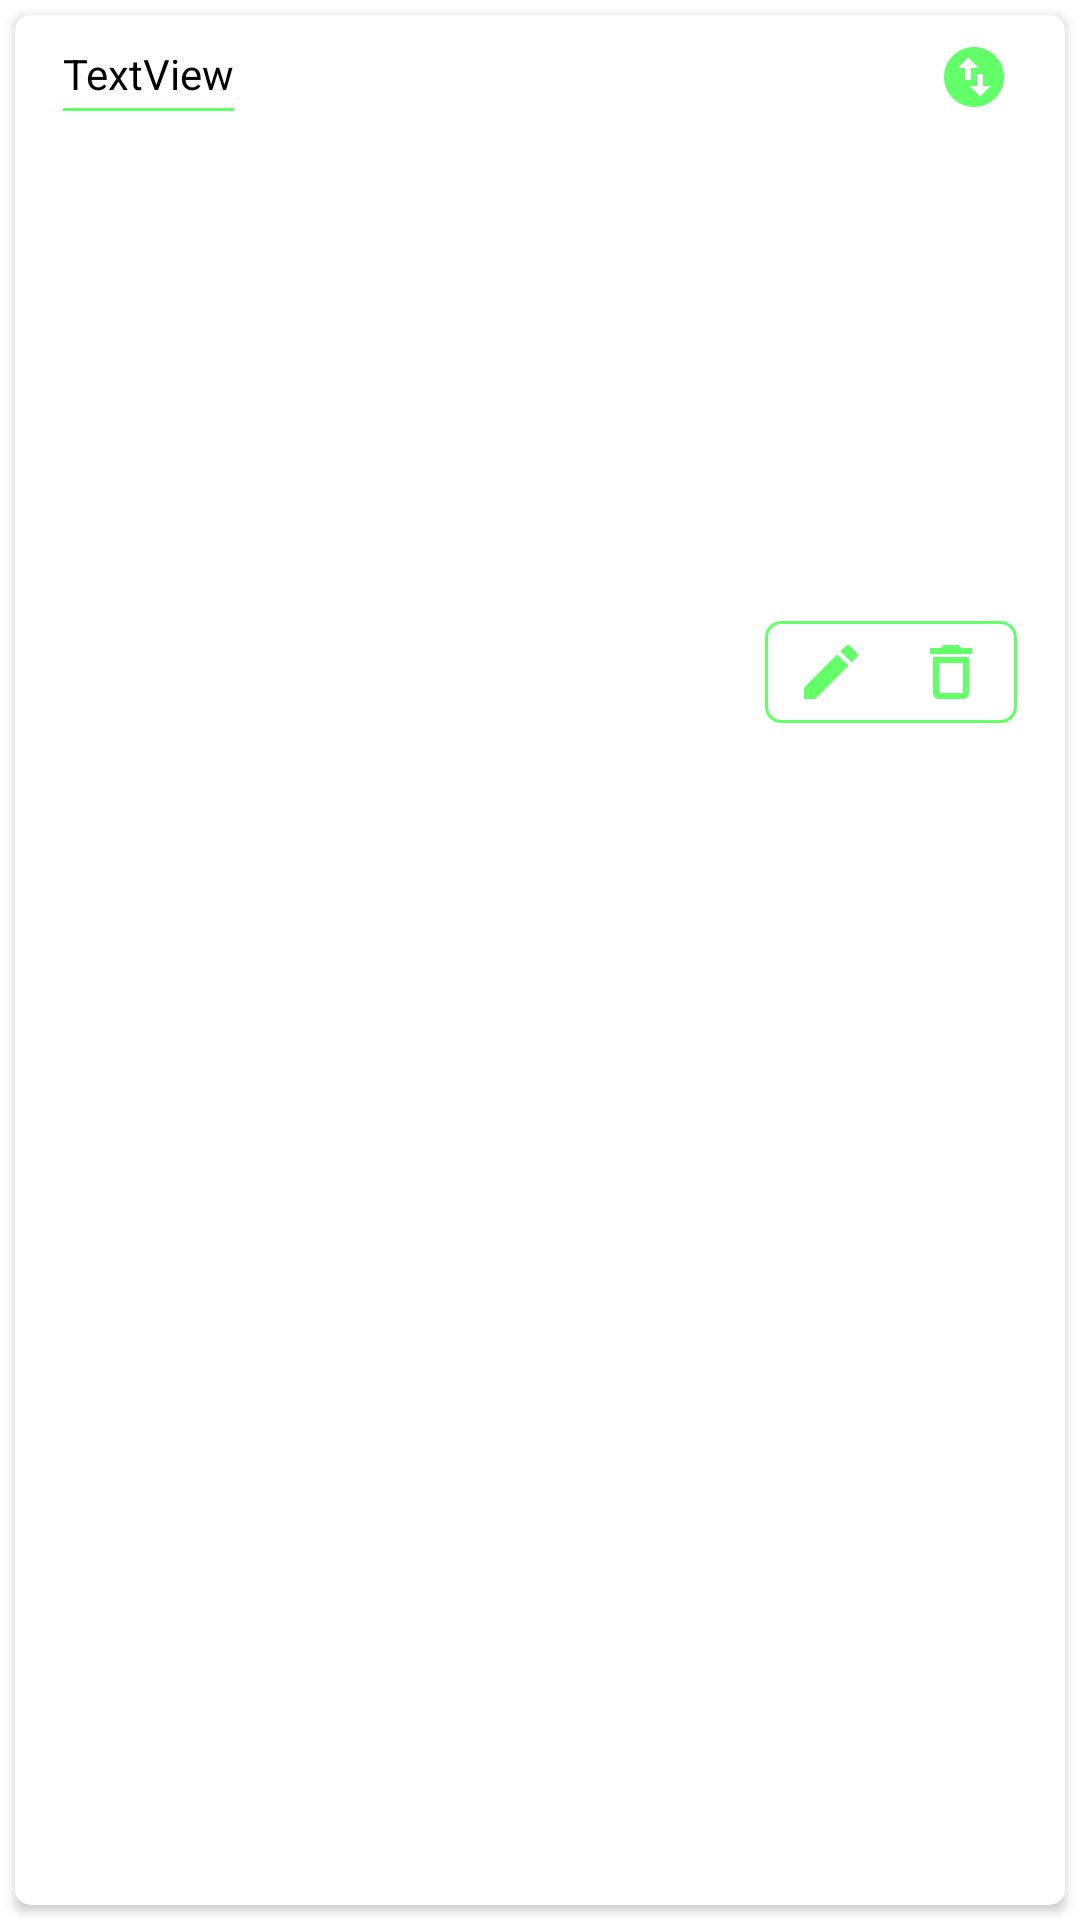

Icons on this 1080x1920 Android screen, each with its box as (x1, y1, x2, y2):
delete: (930, 645, 972, 699)
drag: (944, 47, 1004, 107)
edit: (804, 645, 858, 699)
